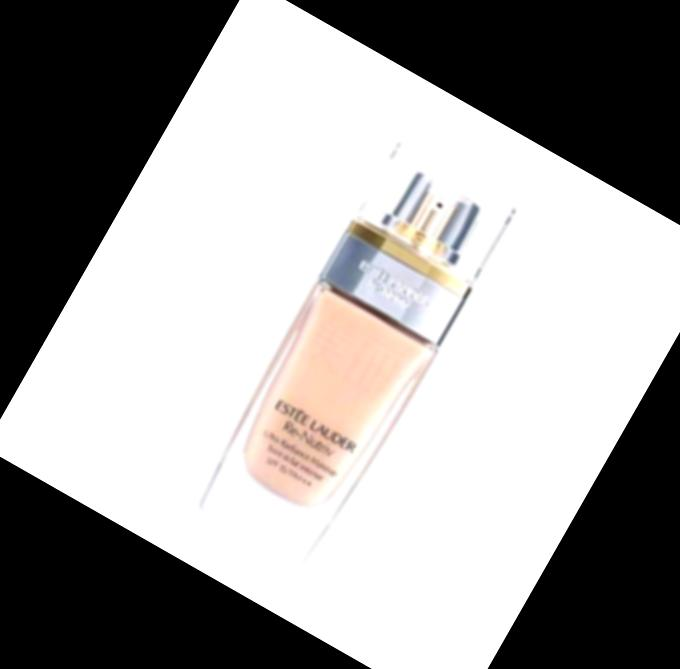cosmetic: (189, 141, 515, 572)
